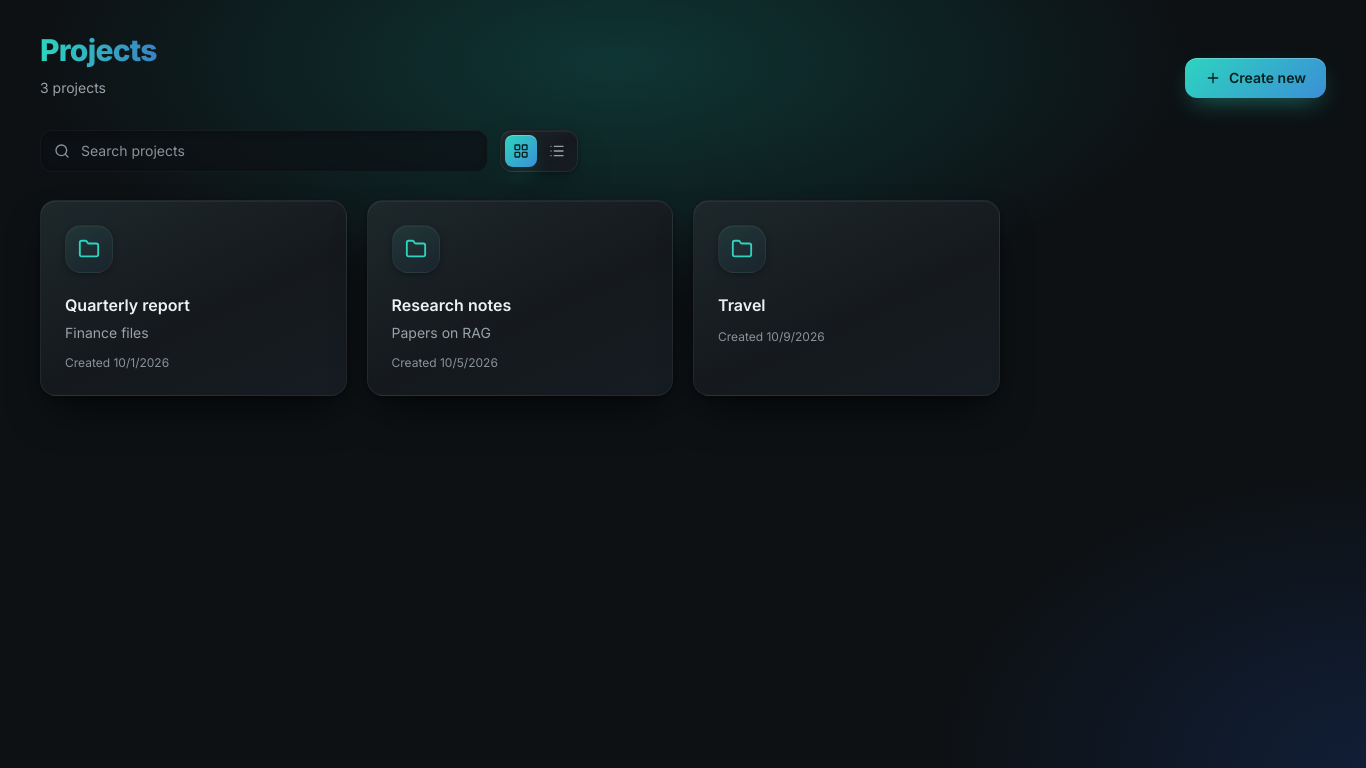
Test: projects page › P04 a search with no match says so and keeps the total count
The width and height of the screenshot is (1366, 768).
Expected: the heading "Quarterly report" is shown, 65,295 -> 190,315
Type "zzz" into the search field labelled "Search projects" at (264, 151), box 40,130 -> 488,172
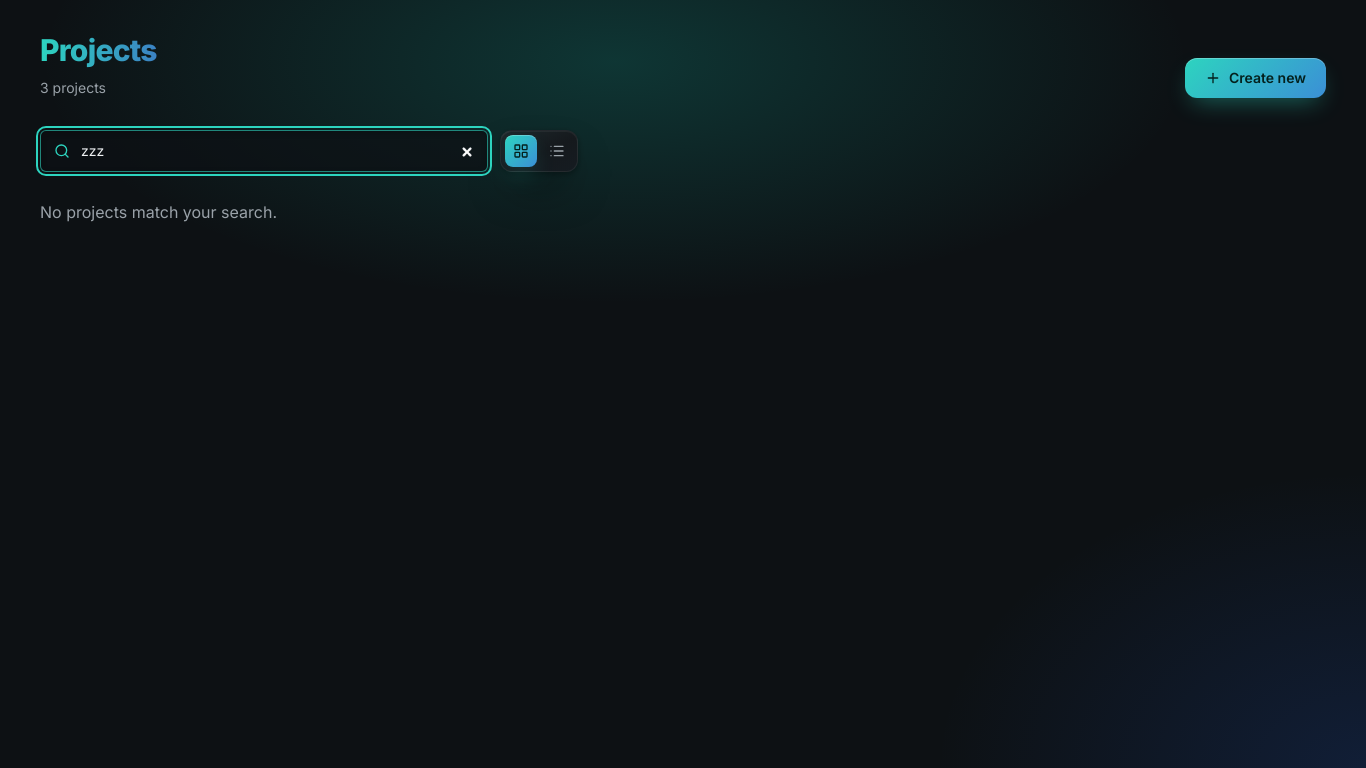
Expected: the text "3 projects" is shown, 40,79 -> 106,96
Result: the text "No projects match your search." is shown at 40,202 -> 277,222
